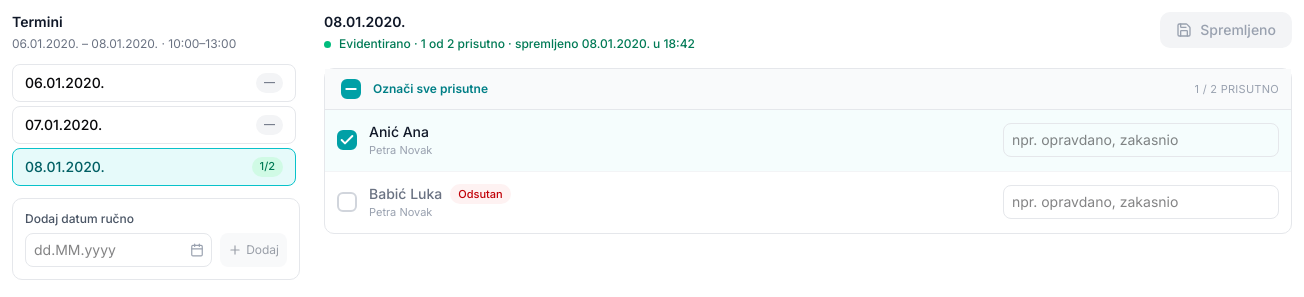
Scenario: AttendanceMarker — a recorded session › leaves Spremi inert until something actually changes
Expected: the button "Spremljeno" is disabled, [1160,12,1292,48]
Click the checkbox labelled "Babić Luka Odsutan Petra Novak" at (406, 193), box [325,172,1003,232]
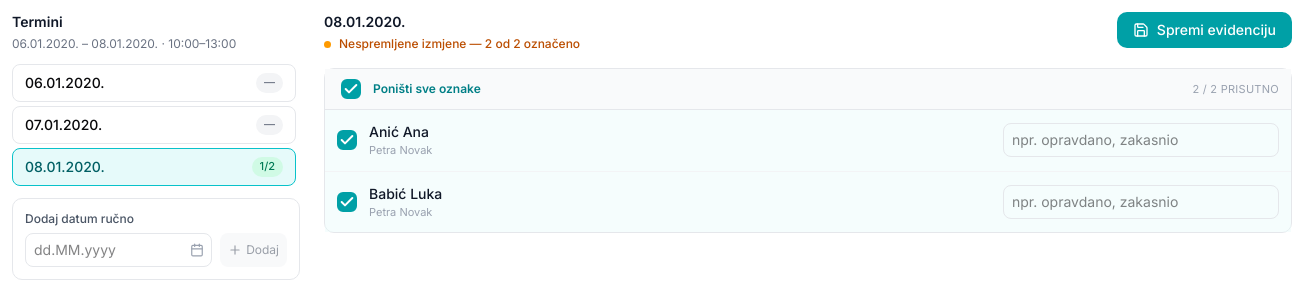
Expected: the button "Spremi evidenciju" is enabled, [1117,12,1292,48]
